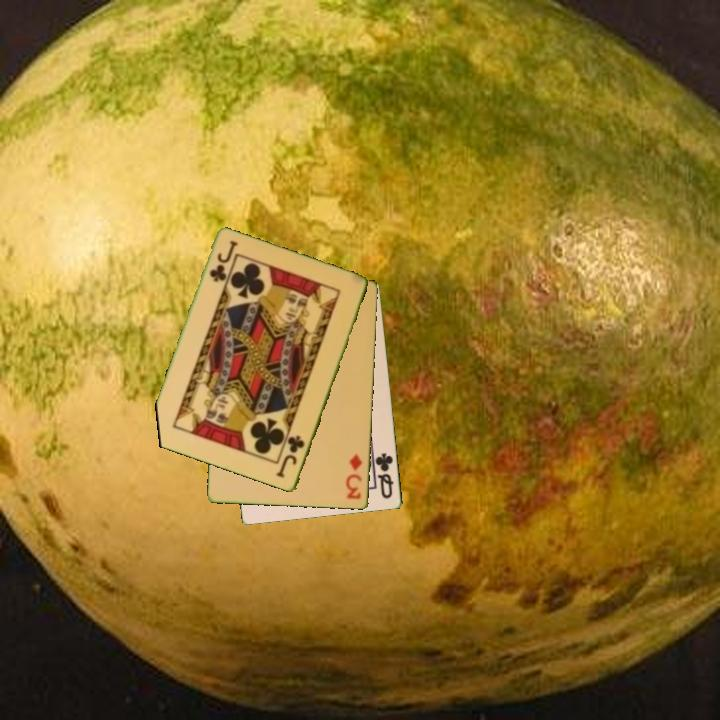3d: (343, 451, 365, 502)
Jc: (274, 432, 308, 481), (206, 237, 240, 285)
Qc: (372, 450, 397, 502)
